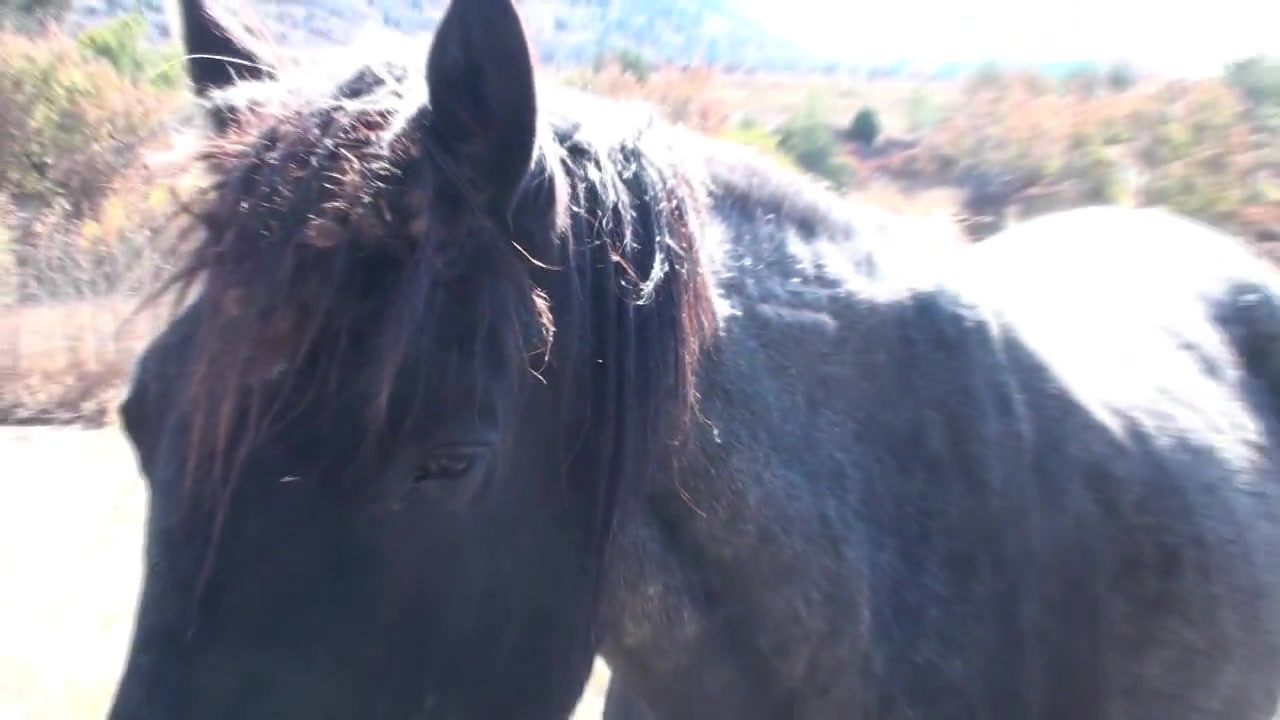horse: (107, 1, 1280, 720)
